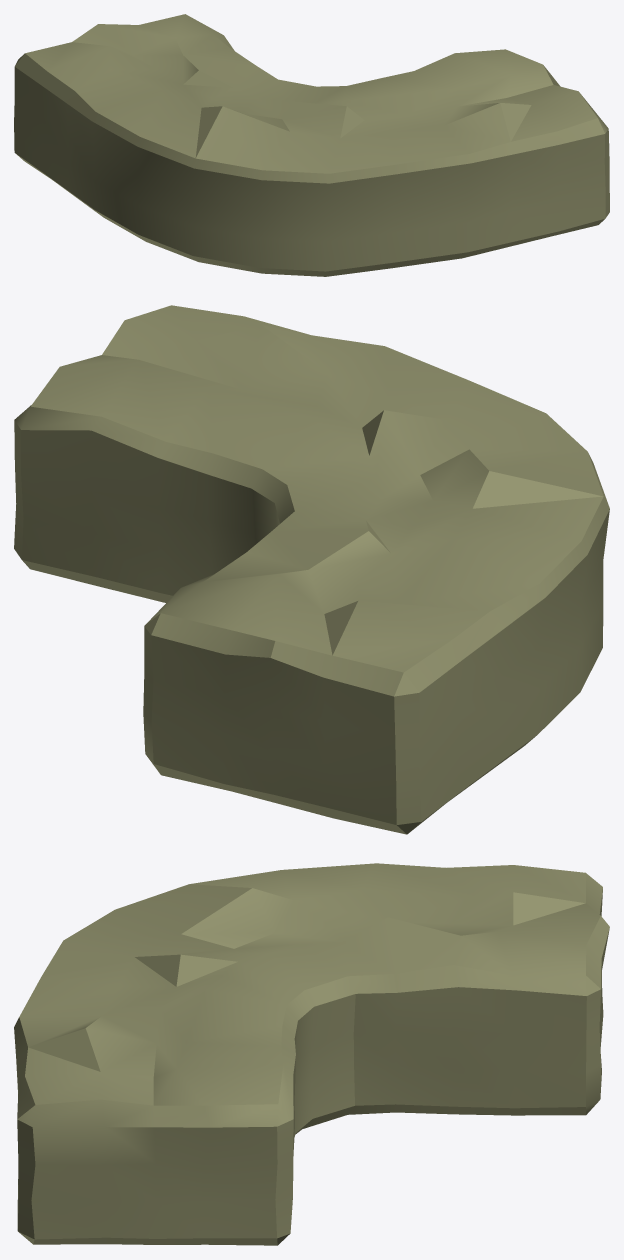
The model's file is Hedge_Edge.fbx.
The picture shows the model from 3 angles, top to bottom: view 1: azimuth 30°, elevation 25°; view 2: azimuth 150°, elevation 25°; view 3: azimuth 270°, elevation 25°; orthographic projection. The views are drawn at different scales.
Visible parts, largest first — view 1: Hedge_Edge; view 2: Hedge_Edge; view 3: Hedge_Edge.
Part boxes in pixels (x1=…): Hedge_Edge: x1=14, y1=14, x2=609, y2=276; Hedge_Edge: x1=14, y1=305, x2=609, y2=834; Hedge_Edge: x1=14, y1=863, x2=609, y2=1245.
Bounding box in the file's own units: 1.92 × 1.93 × 0.6205.
